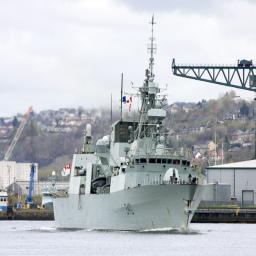Fragata: (48, 8, 209, 233)
